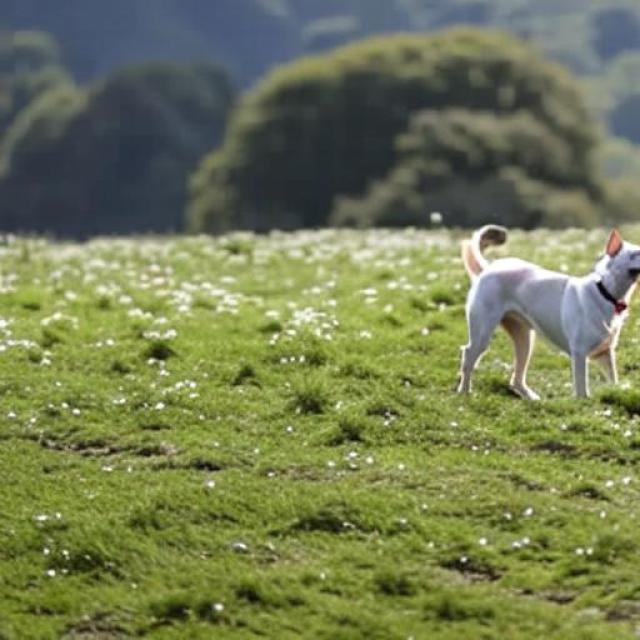Dog: (456, 225, 640, 401)
